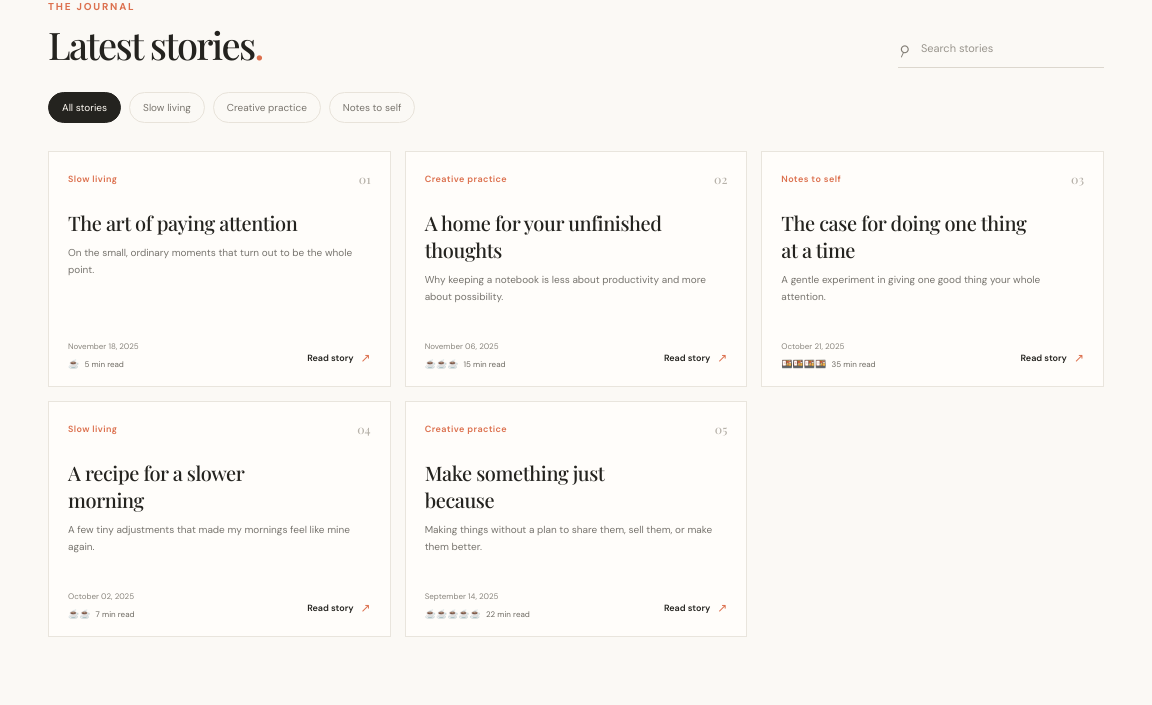
it: expands a story and confirms newsletter signup
(page scrolled)
Click the button "Read story ↗" in the row of "November 18, 2025". click: (339,358)
box: [307, 346, 371, 370]
(page scrolled)
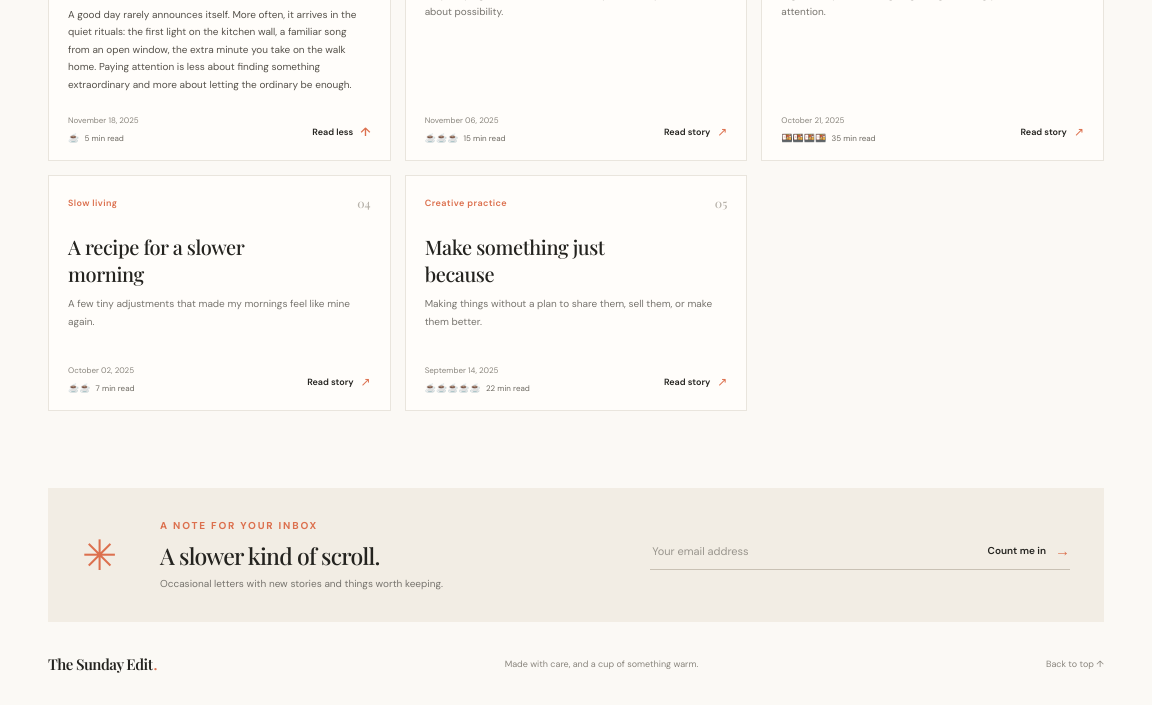
Check: the text "A good day rarely announces itself" is shown, box [68, 8, 356, 91]
Type "reader@example.com" into the field labelled "Your email address". click: (813,551)
box: [650, 543, 976, 559]
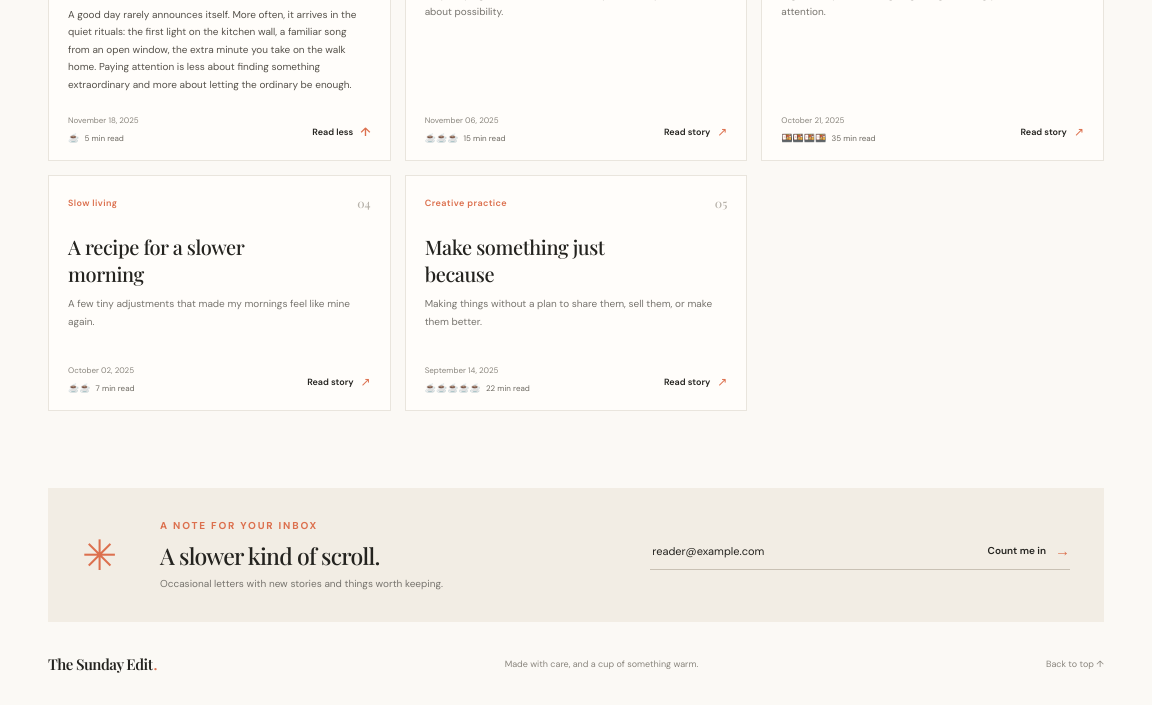
Click the button with aria-label "Subscribe to the newsletter". click: (1029,551)
box: [988, 541, 1070, 561]
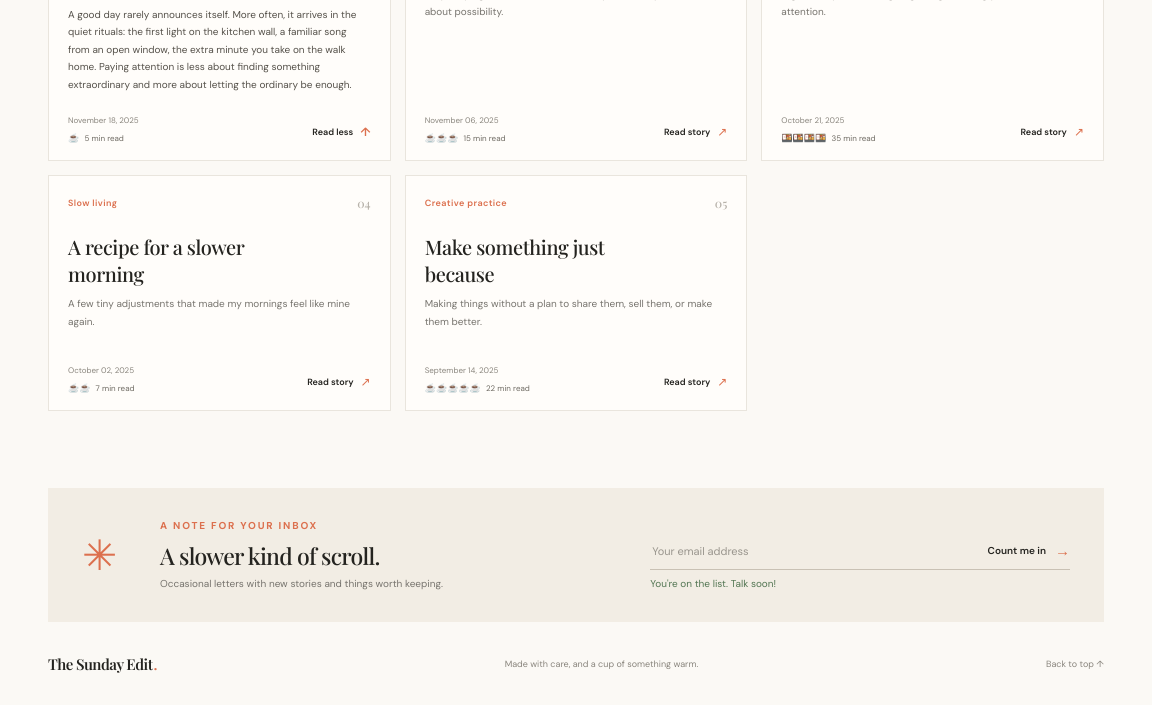
Check: the message shows "You're on the list", box [650, 577, 776, 590]
